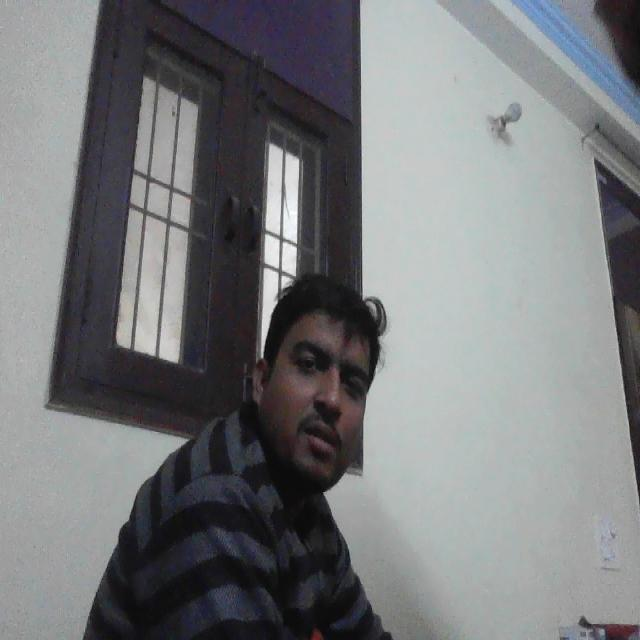real: (251, 264, 367, 483)
